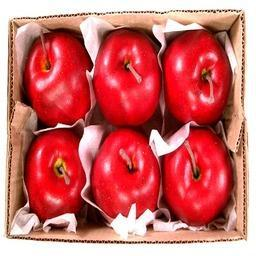apple: (160, 28, 234, 126), (91, 27, 161, 129), (91, 129, 163, 227), (162, 127, 233, 224), (21, 30, 92, 127), (24, 131, 93, 226)
